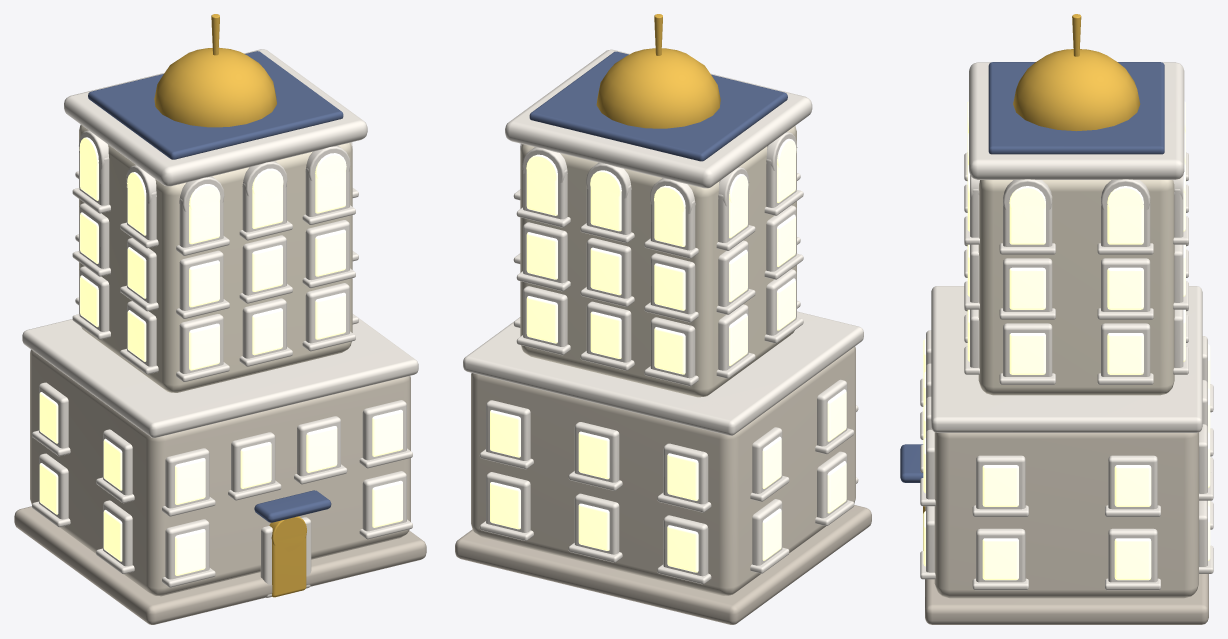
3 renders of one model, left to right at view 1: azimuth 30°, elevation 25°; view 2: azimuth 150°, elevation 25°; view 3: azimuth 270°, elevation 25°, orthographic. The views are drawn at different scales.
Parts seen in each view (by area): view 1: Cube; view 2: Cube; view 3: Cube.
Part boxes in pixels (left/top/right/bottom): Cube: left=14, top=14, right=426, bottom=624; Cube: left=455, top=14, right=871, bottom=624; Cube: left=900, top=14, right=1213, bottom=624.
Size of the model in its own units: 0.699 by 1.22 by 0.6395.
